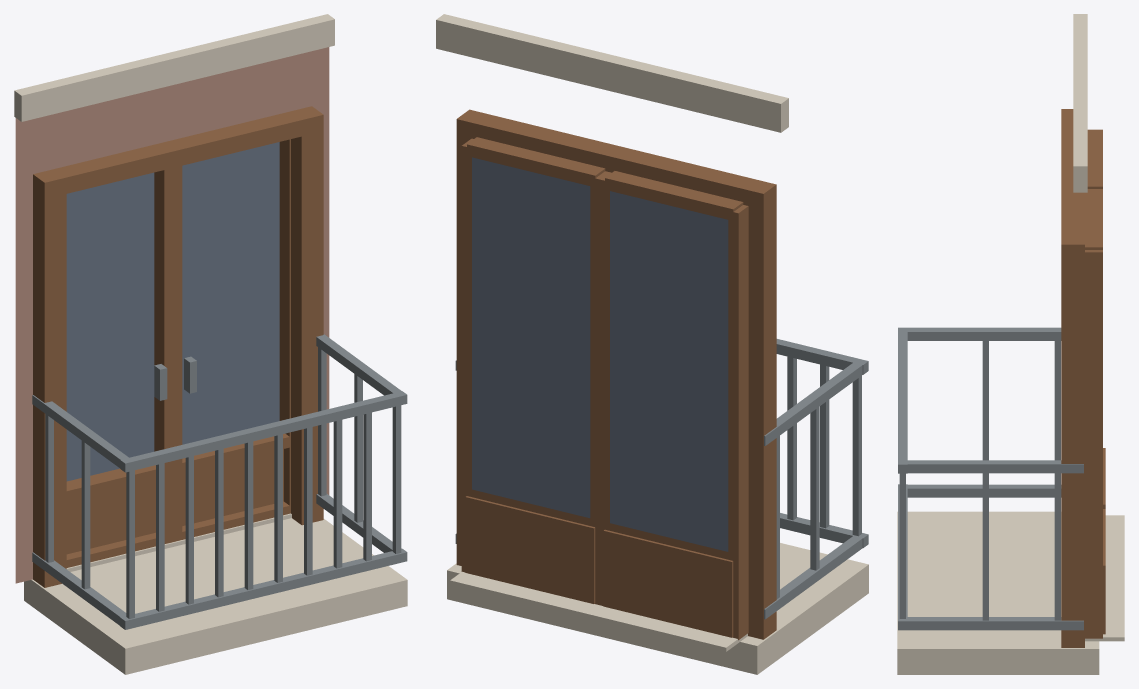
The model's file is Balcony.glb.
3 views of the same model, side by side, from view 1: azimuth 30°, elevation 25°; view 2: azimuth 150°, elevation 25°; view 3: azimuth 270°, elevation 25° (orthographic). The views are drawn at different scales.
Parts seen in each view (by area): view 1: PBK_Continuous_Frame_Brick_Balcony.001, PBK_balcony_slab.001, PBK_Brick_Balcony_Exterior_Surface.001, PBK_balcony_door_glass.002, PBK_balcony_door_glass.001, PBK_floor_band.048, PBK_door_stile.009, PBK_front_rail.004, PBK_door_kick_panel.001, PBK_front_rail.001, PBK_door_stile.011, PBK_door_kick_panel.002 (+24 smaller); view 2: PBK_balcony_door_glass.001, PBK_balcony_door_glass.002, PBK_Continuous_Frame_Brick_Balcony.001, PBK_floor_band.048, PBK_balcony_slab.001, PBK_door_kick_panel.001, PBK_door_kick_panel.002, PBK_door_stile.008, PBK_door_threshold.002, PBK_door_stile.011, PBK_door_stile.009, PBK_door_stile.010 (+13 smaller); view 3: PBK_balcony_slab.001, PBK_Continuous_Frame_Brick_Balcony.001, PBK_door_stile.011, PBK_floor_band.048, PBK_door_threshold.002, PBK_side_rail.005, PBK_side_rail.007, PBK_side_rail.006, PBK_side_rail.004, PBK_front_rail.004, PBK_door_rail.017, PBK_side_baluster.006 (+7 smaller).
Boxes of the visible parts, bbox=[...] form: PBK_Continuous_Frame_Brick_Balcony.001: bbox=[33, 106, 323, 587]; PBK_balcony_slab.001: bbox=[24, 518, 407, 674]; PBK_Brick_Balcony_Exterior_Surface.001: bbox=[15, 47, 329, 583]; PBK_balcony_door_glass.002: bbox=[182, 142, 279, 444]; PBK_balcony_door_glass.001: bbox=[66, 172, 154, 481]; PBK_floor_band.048: bbox=[14, 14, 334, 121]; PBK_door_stile.009: bbox=[154, 168, 173, 543]; PBK_front_rail.004: bbox=[120, 391, 407, 472]; PBK_door_kick_panel.001: bbox=[66, 480, 155, 554]; PBK_front_rail.001: bbox=[120, 549, 407, 629]; PBK_door_stile.011: bbox=[279, 139, 290, 512]; PBK_door_kick_panel.002: bbox=[182, 449, 283, 525]; PBK_balcony_door_glass.001: bbox=[610, 191, 728, 551]; PBK_balcony_door_glass.002: bbox=[472, 157, 590, 518]; PBK_Continuous_Frame_Brick_Balcony.001: bbox=[456, 109, 776, 639]; PBK_floor_band.048: bbox=[436, 14, 788, 132]; PBK_balcony_slab.001: bbox=[447, 543, 868, 674]; PBK_door_kick_panel.001: bbox=[603, 529, 733, 637]; PBK_door_kick_panel.002: bbox=[465, 496, 595, 603]; PBK_door_stile.008: bbox=[728, 205, 748, 640]; PBK_door_threshold.002: bbox=[450, 571, 747, 651]; PBK_door_stile.011: bbox=[461, 138, 473, 572]; PBK_door_stile.009: bbox=[599, 172, 611, 605]; PBK_door_stile.010: bbox=[590, 171, 609, 604]; PBK_balcony_slab.001: bbox=[897, 511, 1099, 674]; PBK_Continuous_Frame_Brick_Balcony.001: bbox=[1061, 109, 1084, 647]; PBK_door_stile.011: bbox=[1085, 250, 1102, 638]; PBK_floor_band.048: bbox=[1073, 14, 1087, 192]; PBK_door_threshold.002: bbox=[1085, 515, 1124, 641]; PBK_side_rail.005: bbox=[898, 617, 1083, 630]; PBK_side_rail.007: bbox=[898, 460, 1083, 473]; PBK_side_rail.006: bbox=[898, 327, 1061, 340]; PBK_side_rail.004: bbox=[899, 484, 1061, 497]; PBK_front_rail.004: bbox=[898, 327, 907, 473]; PBK_door_rail.017: bbox=[1085, 190, 1102, 249]; PBK_side_baluster.006: bbox=[1054, 473, 1060, 620].
Bounding box in the file's own units: 2 × 3.16 × 1.26.
